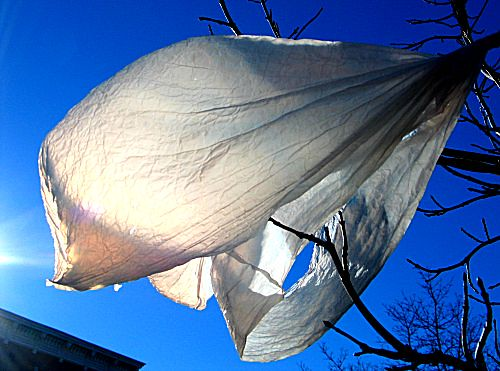plastic bag: (35, 34, 482, 362)
